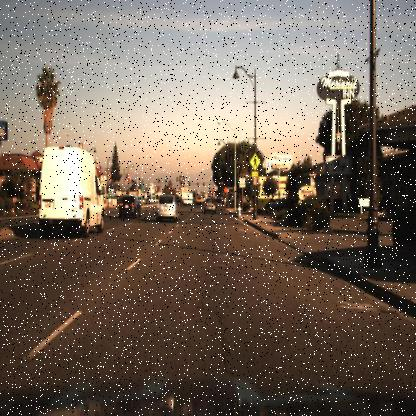car: (38, 144, 109, 242), (155, 190, 180, 224), (116, 192, 140, 224), (204, 193, 220, 216), (186, 192, 198, 211), (182, 190, 193, 206)
truck: (36, 140, 105, 240), (180, 185, 195, 210)
